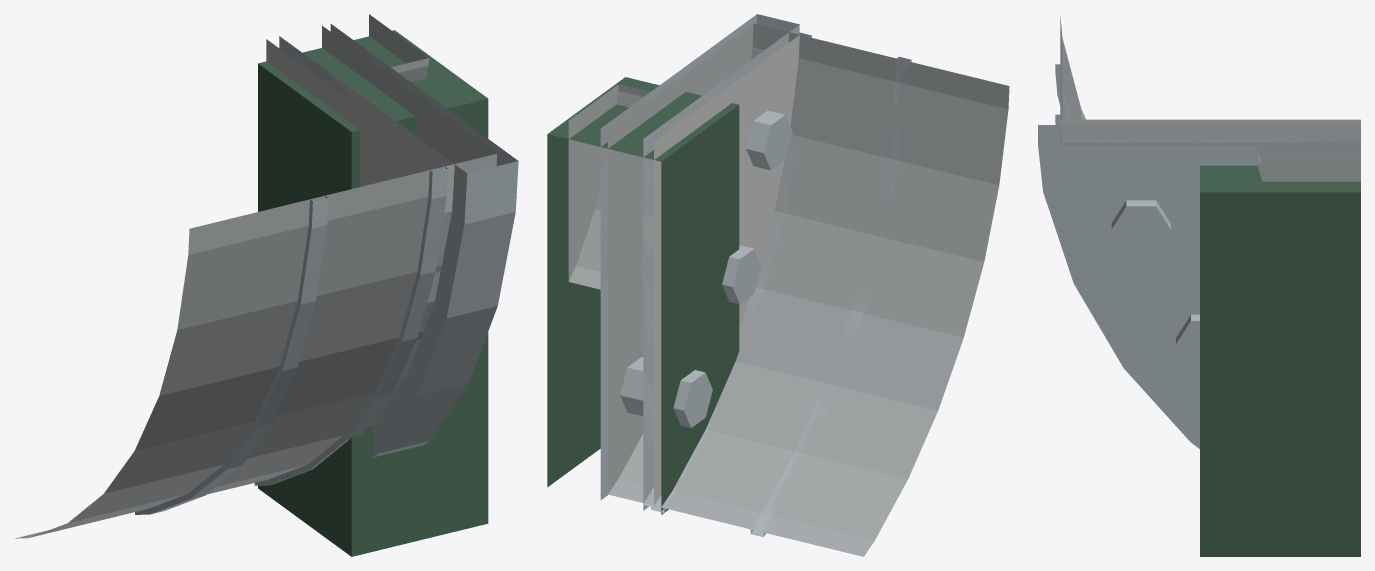
File: cell_58.obj
The picture shows the model from 3 angles, left to right: view 1: azimuth 30°, elevation 25°; view 2: azimuth 150°, elevation 25°; view 3: azimuth 270°, elevation 25°; orthographic projection. The views are drawn at different scales.
Size of the model in its own units: 0.89 by 1 by 0.7622.
